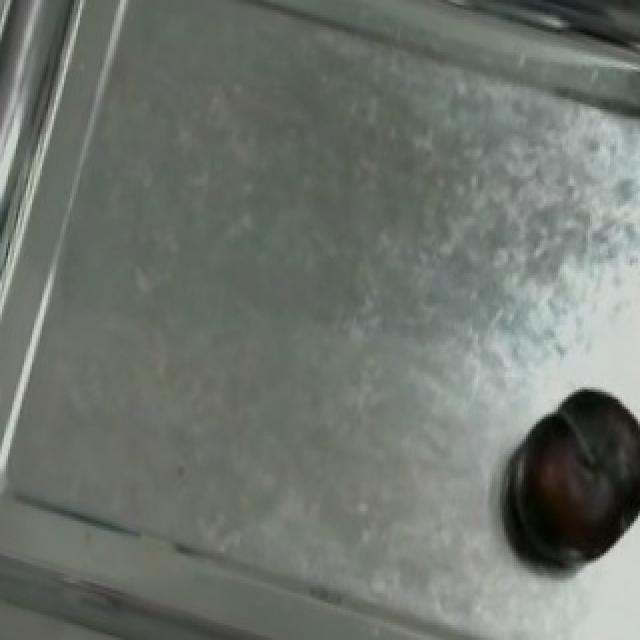Fruit: (496, 380, 640, 576)
